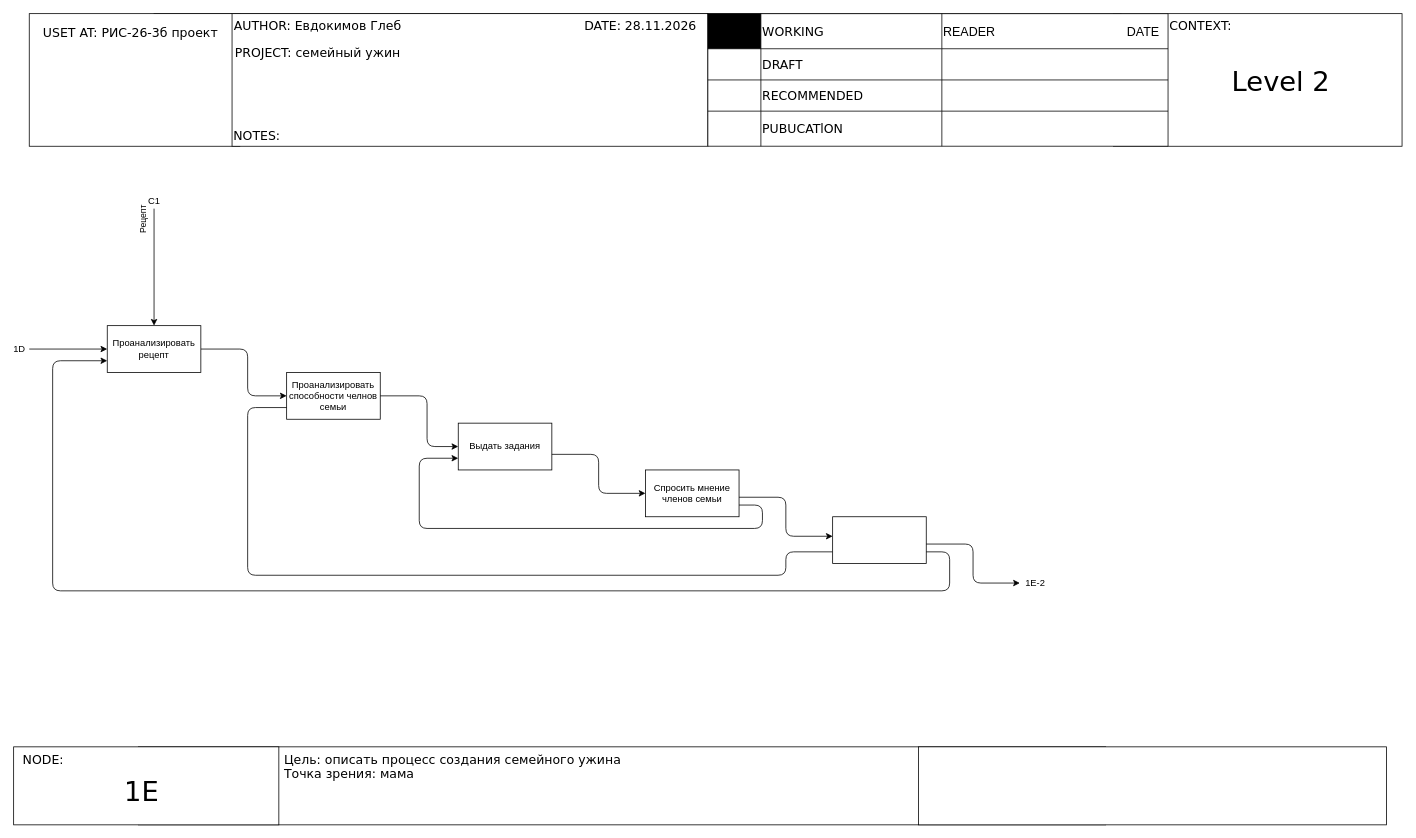
Image size: 1416x838. Some labels were removed from this diagram. Here are the shapes that lost their labels. From the top down, the centre of each, then its label:
At (x=879, y=540): "Перепроверить рецепт".
At (x=1152, y=785): "NUMBER:".
